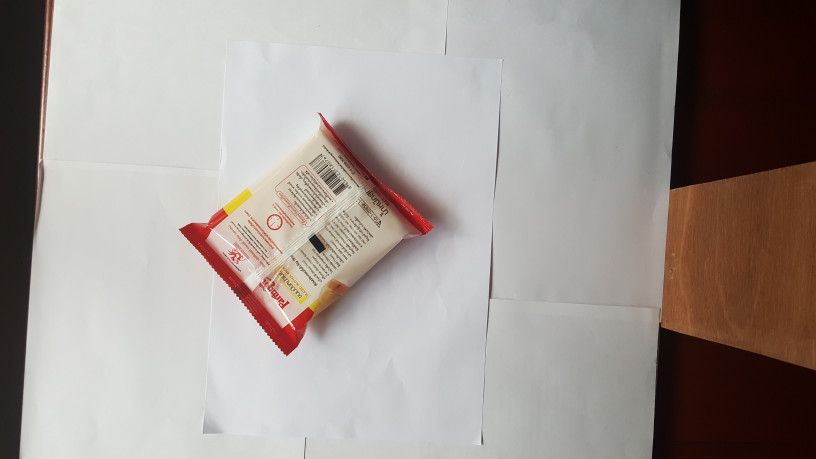farmhouse-bread-butter: (167, 106, 433, 365)
